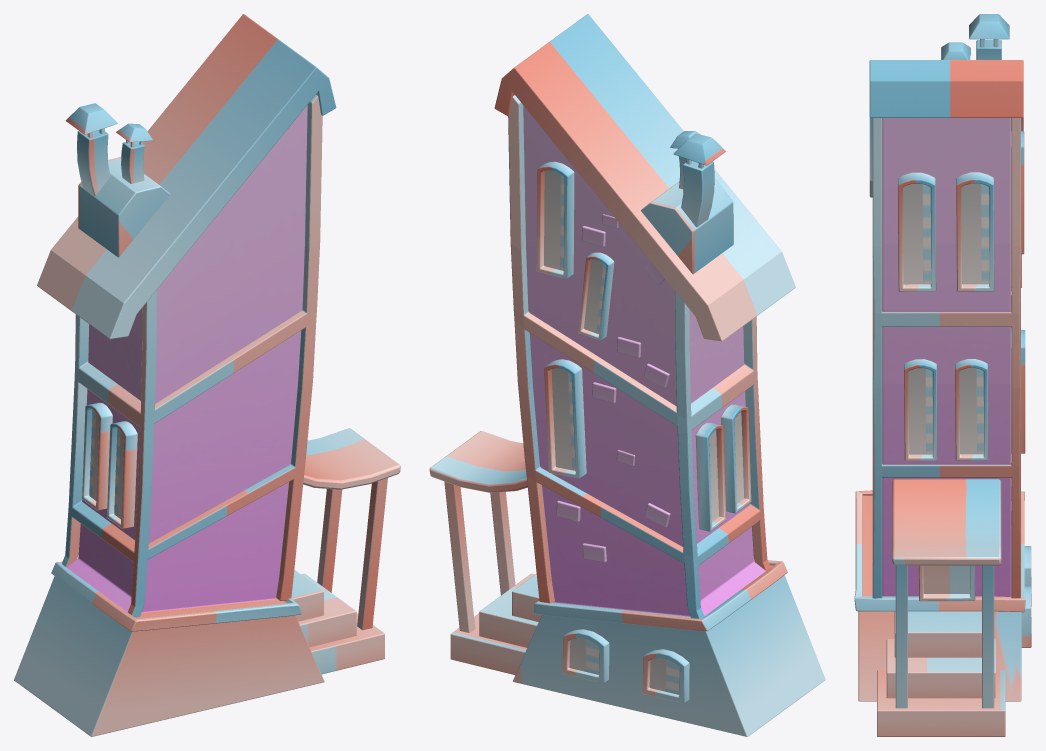
The model's file is HouseC_v1.fbx.
The picture shows the model from 3 angles, left to right: view 1: azimuth 30°, elevation 25°; view 2: azimuth 150°, elevation 25°; view 3: azimuth 270°, elevation 25°; orthographic projection. The views are drawn at different scales.
Visible parts, largest first — view 1: HouseC_v1; view 2: HouseC_v1; view 3: HouseC_v1.
Part boxes in pixels (x1,y1,x2,y2): HouseC_v1: [14, 14, 400, 736]; HouseC_v1: [429, 14, 825, 736]; HouseC_v1: [854, 14, 1031, 736].
Bounding box in the file's own units: 722 × 1292 × 324.
